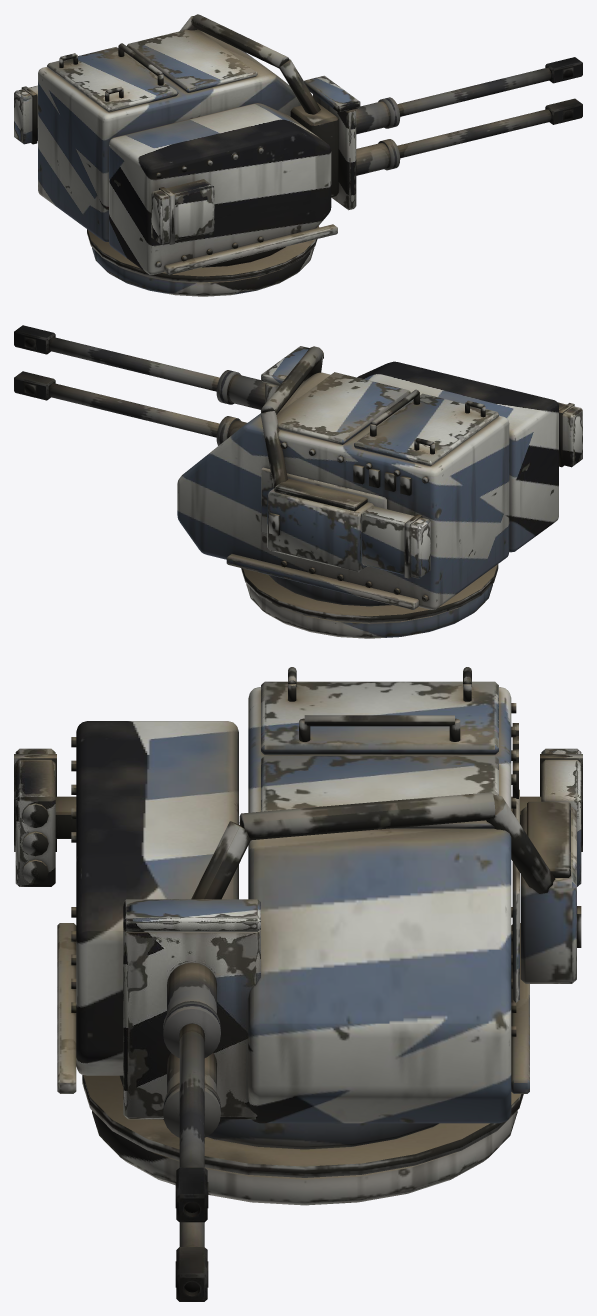
File: turret_grach_t2_dazzle.glb
3 renders of one model, top to bottom at view 1: azimuth 30°, elevation 25°; view 2: azimuth 150°, elevation 25°; view 3: azimuth 270°, elevation 25°, orthographic. The views are drawn at different scales.
Parts seen in each view (by area): view 1: turret_light_t2, guns, pods; view 2: turret_light_t2, guns, pods; view 3: turret_light_t2, guns, pods.
Part boxes in pixels (box(x1,y1,x2,y2)): turret_light_t2: box(38, 14, 337, 296); guns: box(290, 57, 582, 210); pods: box(14, 85, 214, 244); turret_light_t2: box(177, 346, 558, 638); guns: box(14, 325, 323, 445); pods: box(360, 402, 582, 578); turret_light_t2: box(57, 667, 581, 1205); guns: box(123, 899, 260, 1301); pods: box(14, 748, 582, 886).
Size of the model in its own units: 1.64 by 0.6416 by 0.9088.
3 materials, 3 textured.
